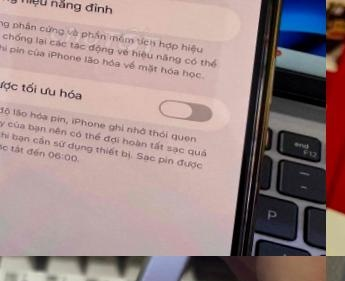scratch: (83, 256, 161, 281)
